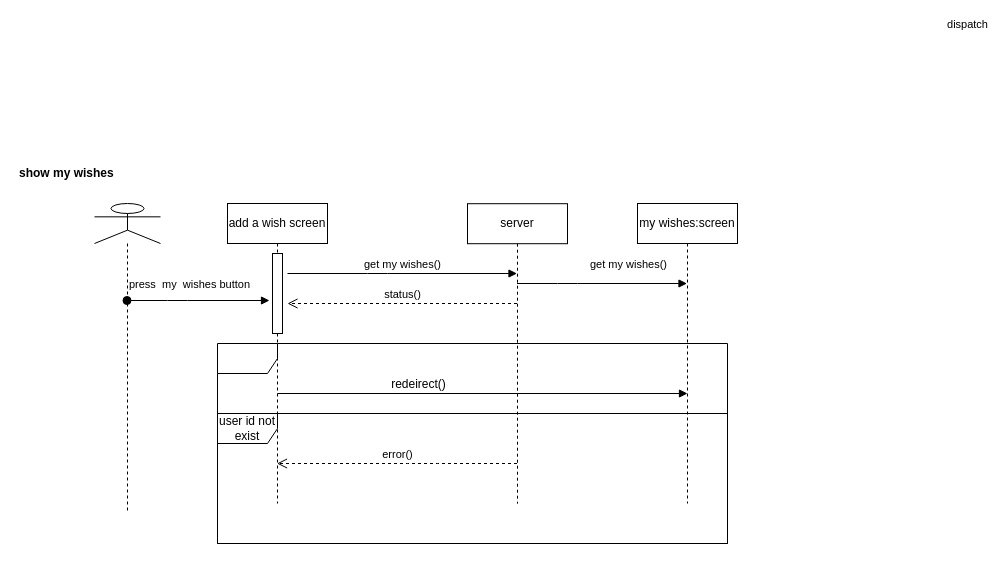
The diagram is 1005 pixels wide and 561 high, and some of its shapes have lost their labels. The box of each missing label's shape, as (x1, y1, x2, y2) in pixels:
user: (94, 202, 160, 514)
user id exist: (216, 342, 728, 544)
